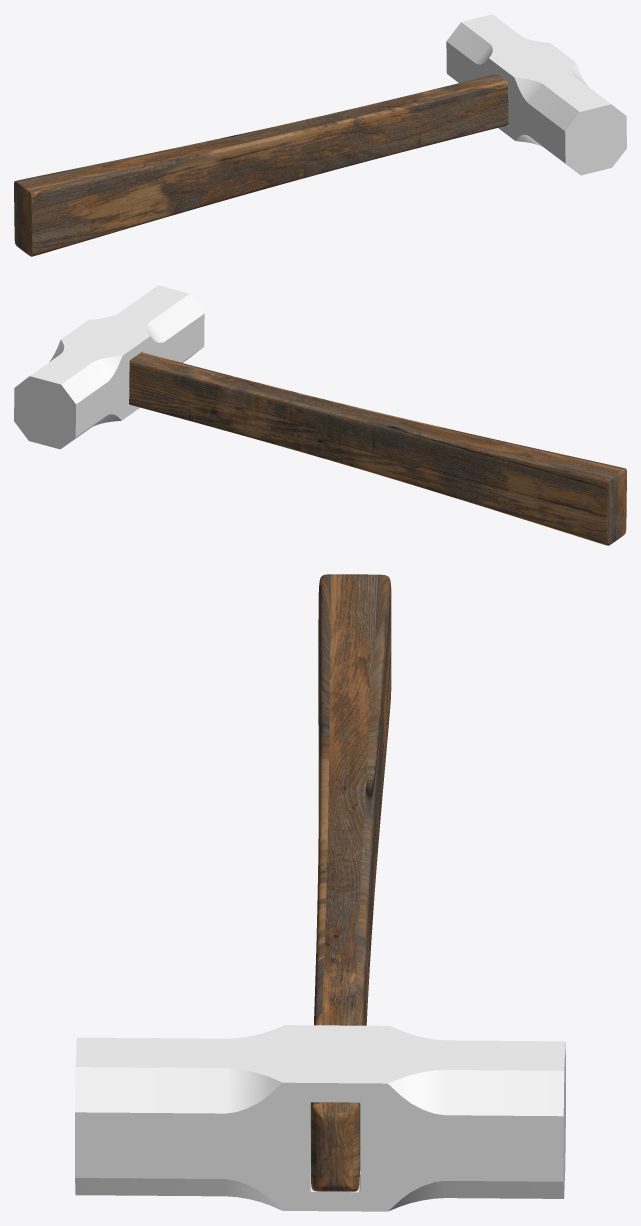
3 renders of one model, top to bottom at view 1: azimuth 30°, elevation 25°; view 2: azimuth 150°, elevation 25°; view 3: azimuth 270°, elevation 25°, orthographic. The views are drawn at different scales.
Parts seen in each view (by area): view 1: 锤把, 锤头; view 2: 锤把, 锤头; view 3: 锤头, 锤把.
Boxes of the visible parts, x1,y1,x2,y2 form: 锤把: [14, 74, 508, 256]; 锤头: [446, 14, 626, 175]; 锤把: [129, 352, 626, 545]; 锤头: [14, 285, 204, 449]; 锤头: [75, 1025, 565, 1211]; 锤把: [311, 574, 391, 1191].
Size of what is drawn, in the model's own units: 17.82 by 2.26 by 6.99.
2 materials, 1 textured.
